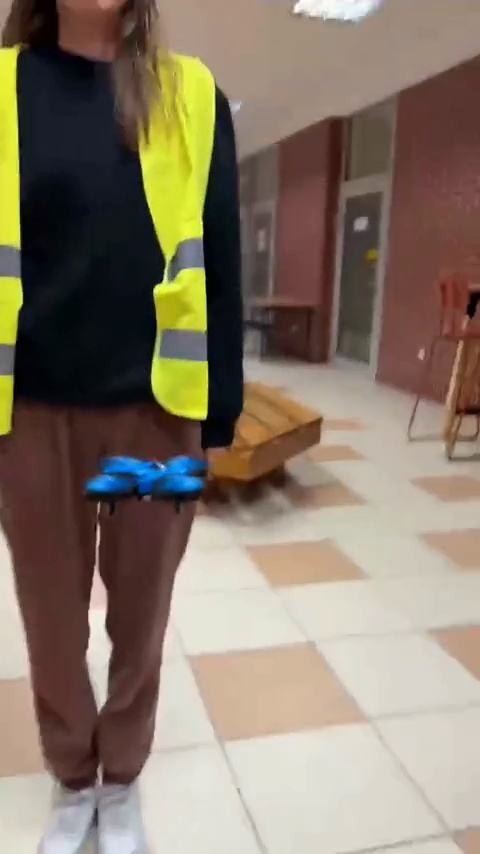drone: (86, 451, 207, 511)
vest: (0, 61, 252, 847)
